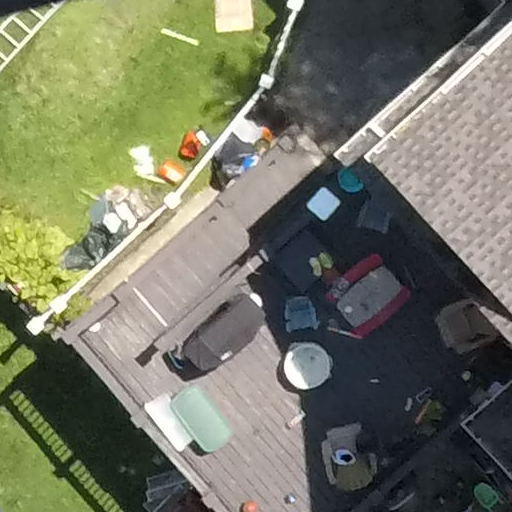bucket: (152, 150, 189, 184), (174, 129, 207, 156)
container: (168, 387, 235, 453), (137, 395, 194, 455)
